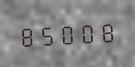eight: (18, 22, 37, 48), (98, 18, 117, 44)
five: (38, 21, 57, 47)
zero: (58, 20, 77, 46), (78, 19, 97, 45)
